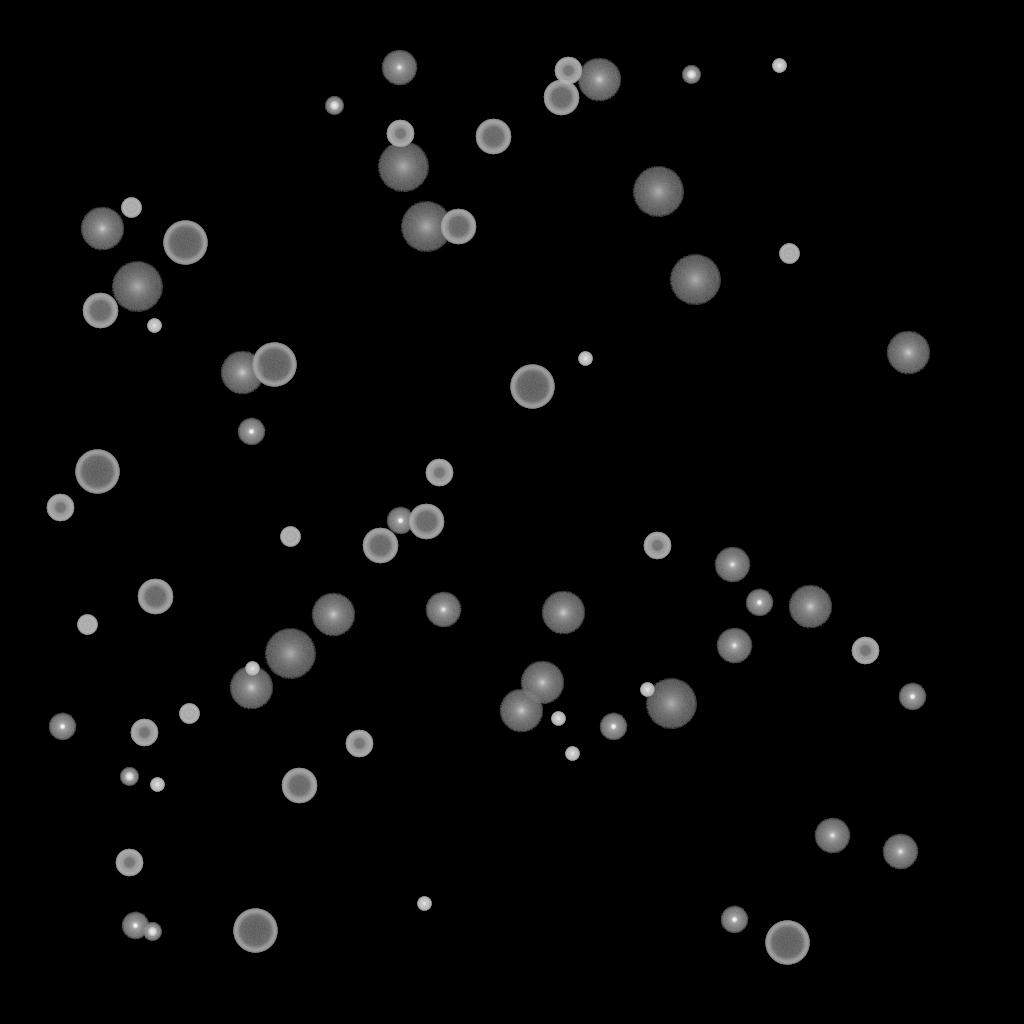depth:-10: (121, 912, 149, 940), (898, 683, 926, 711), (237, 418, 265, 446), (599, 713, 627, 741), (720, 906, 748, 934), (386, 507, 414, 535), (745, 589, 773, 617), (48, 713, 76, 741)
depth:-20: (120, 768, 138, 786), (325, 97, 343, 115), (682, 66, 700, 84), (143, 923, 161, 941)
depth:-30: (565, 747, 579, 761), (150, 778, 164, 792), (578, 352, 592, 366), (417, 897, 431, 911), (772, 59, 786, 73), (245, 662, 259, 676), (147, 319, 161, 333), (640, 683, 654, 697), (551, 712, 565, 726)
depth:-40: (121, 198, 141, 218), (280, 527, 300, 547), (77, 615, 97, 635), (179, 704, 199, 724), (779, 244, 799, 264)
depth:-50: (345, 730, 373, 758), (851, 637, 879, 665), (554, 57, 582, 85), (46, 494, 74, 522), (130, 719, 158, 747), (386, 120, 414, 148), (115, 849, 143, 877), (425, 459, 453, 487), (643, 532, 671, 560)
depth:-60: (137, 579, 173, 615), (543, 80, 579, 116), (362, 528, 398, 564), (281, 768, 317, 804), (440, 209, 476, 245), (408, 504, 444, 540), (475, 119, 511, 155), (82, 293, 118, 329)
depth:-70: (75, 450, 119, 494), (765, 921, 809, 965), (163, 221, 207, 265), (510, 365, 554, 409), (252, 343, 296, 387), (233, 909, 277, 953)
depth:0: (381, 50, 417, 86), (716, 628, 752, 664), (882, 834, 918, 870), (814, 818, 850, 854), (714, 547, 750, 583), (425, 592, 461, 628)
depth:10: (499, 689, 543, 733), (886, 331, 930, 375), (220, 351, 264, 395), (229, 666, 273, 710), (788, 585, 832, 629), (520, 661, 564, 705), (541, 591, 585, 635), (80, 207, 124, 251), (311, 593, 355, 637), (577, 58, 621, 102)
depth:20: (377, 142, 429, 192), (400, 202, 452, 252), (645, 679, 697, 729), (669, 255, 721, 305), (264, 629, 316, 679), (111, 262, 163, 312), (632, 167, 684, 217)
